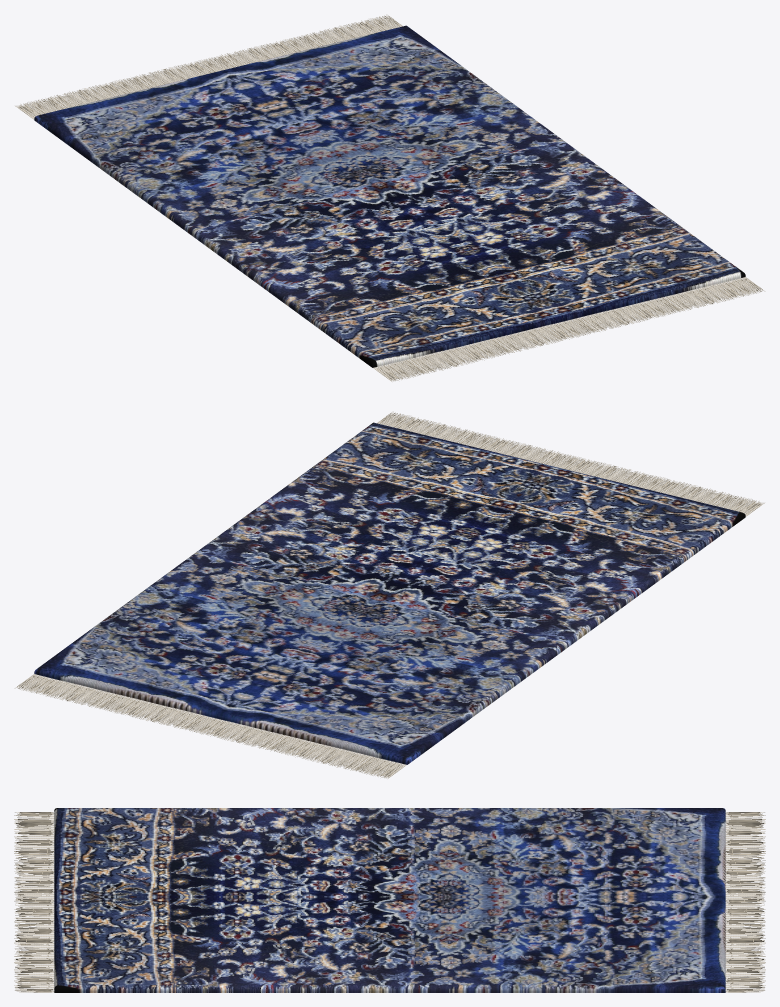
3 renders of one model, top to bottom at view 1: azimuth 30°, elevation 25°; view 2: azimuth 150°, elevation 25°; view 3: azimuth 270°, elevation 25°, orthographic.
Parts seen in each view (by area): view 1: k11; view 2: k11; view 3: k11.
Boxes of the visible parts, x1,y1,x2,y2 form: k11: (15, 14, 765, 381); k11: (14, 411, 764, 778); k11: (14, 808, 765, 992).
Bounding box in the file's own units: 0.7 × 0.0105 × 1.23.
3 materials, 2 textured.
